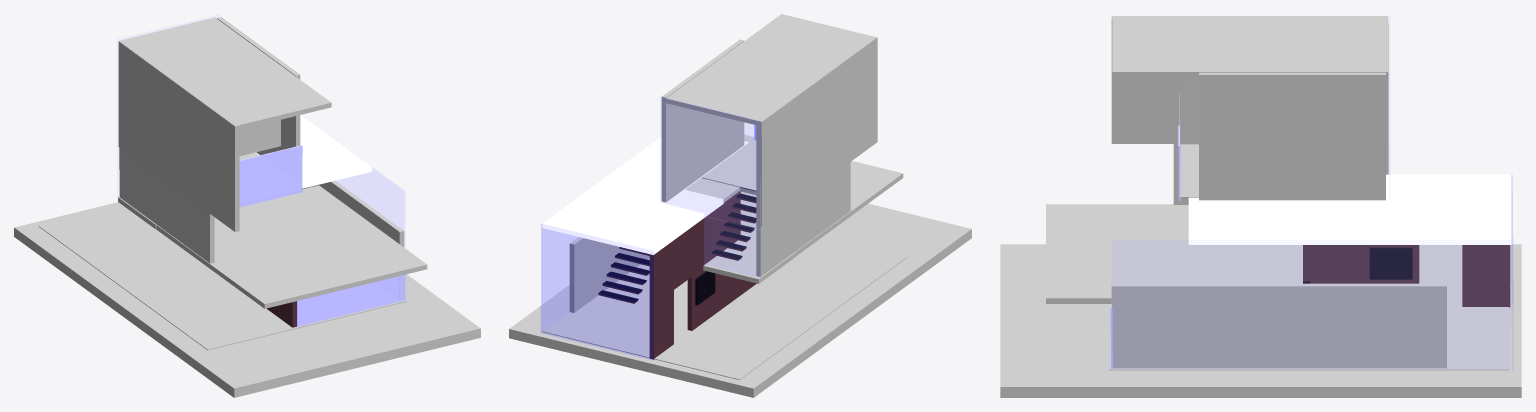
File: mvdr.glb
3 views of the same model, side by side, from view 1: azimuth 30°, elevation 25°; view 2: azimuth 150°, elevation 25°; view 3: azimuth 270°, elevation 25° (orthographic). The views are drawn at different scales.
Visible parts, largest first — view 1: Cube.006, Cube.005, Piso planta baja, Cube.011, Cube.004, Cube.003, Cube.002, Cube.012, Cube, Cube.009, Muro 1 planta Baja 1-A, Cube.001 (+2 smaller); view 2: Piso planta baja, Cube.006, Cube.011, Cube.007, Cube.004, Cube.010, Cube, Muro 1 planta Baja 1-A.001, Cube.001, Cube.003, Muro 1 planta Baja 1-A, Cube.014 (+7 smaller); view 3: Cube.009, Muro 1 planta Baja 1-A, Cube.006, Cube.001, Cube, Cube.005, Cube.004, Piso planta baja, Muro 1 planta Baja 1-A.001, Cube.011, Cube.003, Cube.020 (+1 smaller).
Boxes of the visible parts, left/top/right/bottom form: Cube.006: left=14, top=202, right=480, bottom=397; Cube.005: left=156, top=185, right=427, bottom=308; Piso planta baja: left=38, top=205, right=406, bottom=350; Cube.011: left=118, top=41, right=239, bottom=231; Cube.004: left=119, top=17, right=331, bottom=129; Cube.003: left=119, top=147, right=214, bottom=263; Cube.002: left=239, top=145, right=302, bottom=207; Cube.012: left=297, top=275, right=405, bottom=326; Cube: left=255, top=115, right=372, bottom=188; Cube.009: left=337, top=168, right=404, bottom=230; Muro 1 planta Baja 1-A: left=303, top=180, right=404, bottom=247; Cube.001: left=217, top=17, right=300, bottom=155; Piso planta baja: left=542, top=236, right=907, bottom=379; Cube.006: left=509, top=203, right=971, bottom=397; Cube.011: left=761, top=37, right=877, bottom=226; Cube.007: left=541, top=224, right=653, bottom=359; Cube.004: left=666, top=14, right=876, bottom=126; Cube.010: left=661, top=97, right=761, bottom=229; Cube: left=542, top=136, right=748, bottom=254; Muro 1 planta Baja 1-A.001: left=649, top=191, right=756, bottom=359; Cube.001: left=661, top=39, right=744, bottom=202; Cube.003: left=756, top=125, right=850, bottom=276; Muro 1 planta Baja 1-A: left=569, top=237, right=649, bottom=312; Cube.014: left=704, top=217, right=760, bottom=277; Cube.009: left=1112, top=240, right=1509, bottom=368; Muro 1 planta Baja 1-A: left=1111, top=283, right=1446, bottom=368; Cube.006: left=1000, top=244, right=1521, bottom=397; Cube.001: left=1199, top=72, right=1385, bottom=200; Cube: left=1188, top=174, right=1511, bottom=244; Cube.005: left=1046, top=204, right=1302, bottom=303; Cube.004: left=1112, top=16, right=1388, bottom=77; Piso planta baja: left=1108, top=254, right=1509, bottom=370; Muro 1 planta Baja 1-A.001: left=1303, top=245, right=1510, bottom=307; Cube.011: left=1111, top=16, right=1173, bottom=143; Cube.003: left=1173, top=21, right=1388, bottom=204; Cube.020: left=1369, top=247, right=1412, bottom=279.
Size of what is drawn, in the model's own units: 11 by 9.67 by 17.
